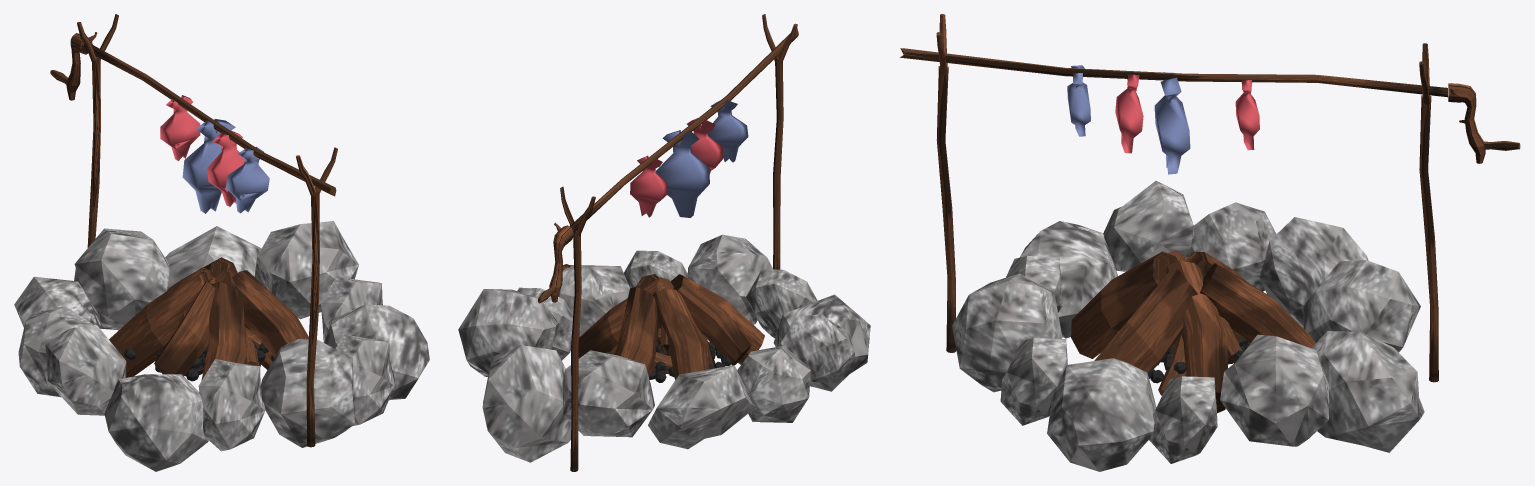
File: campfire.glb
3 views of the same model, side by side, from view 1: azimuth 30°, elevation 25°; view 2: azimuth 150°, elevation 25°; view 3: azimuth 270°, elevation 25° (orthographic). The views are drawn at different scales.
Visible parts, largest first — view 1: Cylinder.011; view 2: Cylinder.011; view 3: Cylinder.011.
Boxes of the visible parts, box(x1,y1,x2,y2) form: Cylinder.011: box(14, 14, 429, 471); Cylinder.011: box(458, 14, 870, 471); Cylinder.011: box(900, 14, 1520, 471).
Bounding box in the file's own units: 5.54 × 5.07 × 7.52.
Materials: 5 (2 with a texture image).
